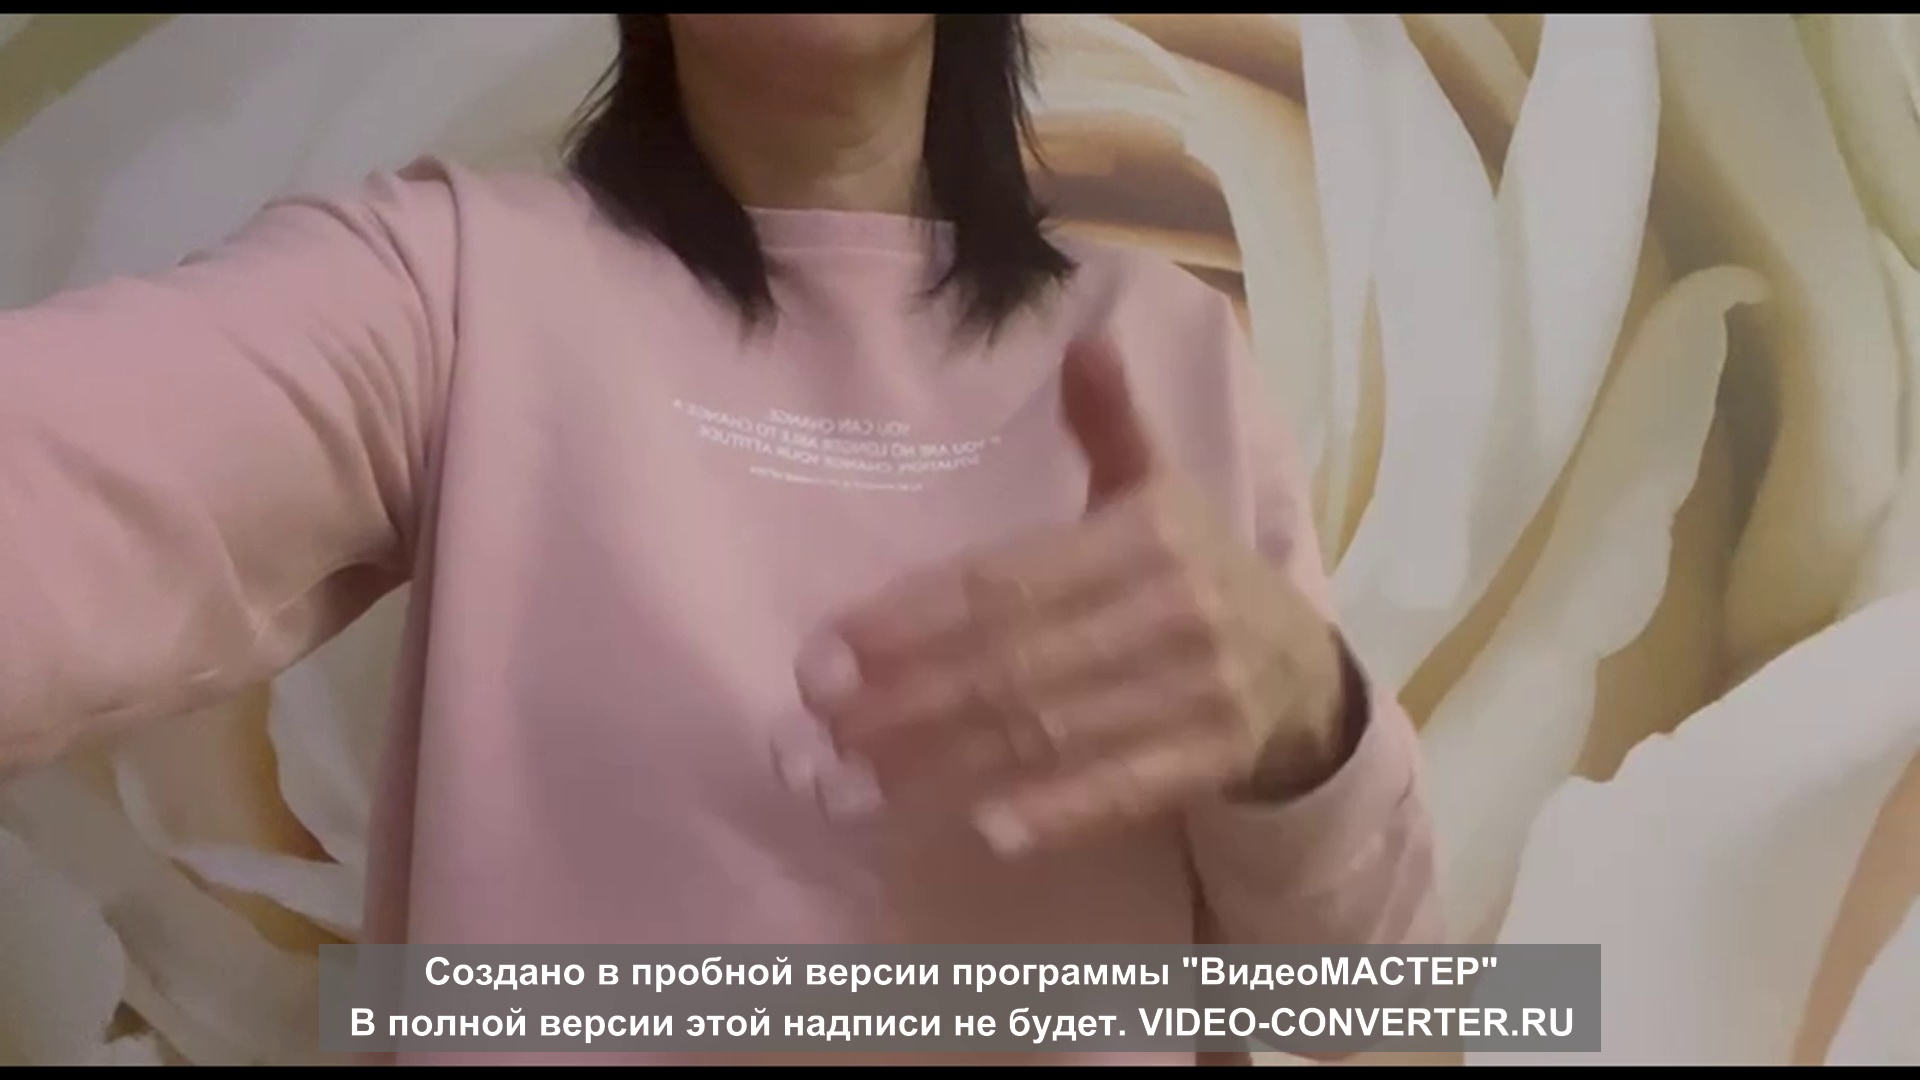Кисть: (769, 330, 1308, 853)
